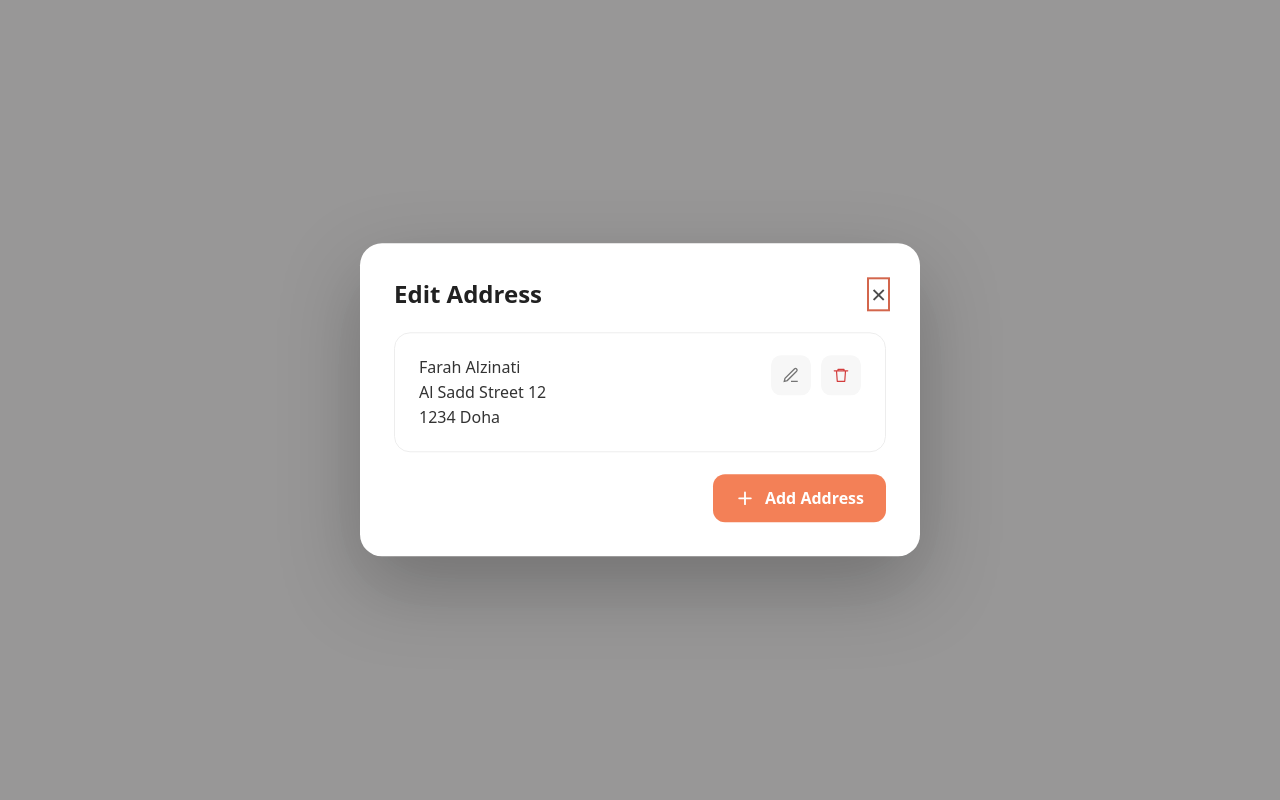
Test: deleting an address › asks first and deletes nothing until confirmed
Step 1. Click the button named "Delete Al Sadd Street 12, Doha" → (841,375), box [821,355,861,395]
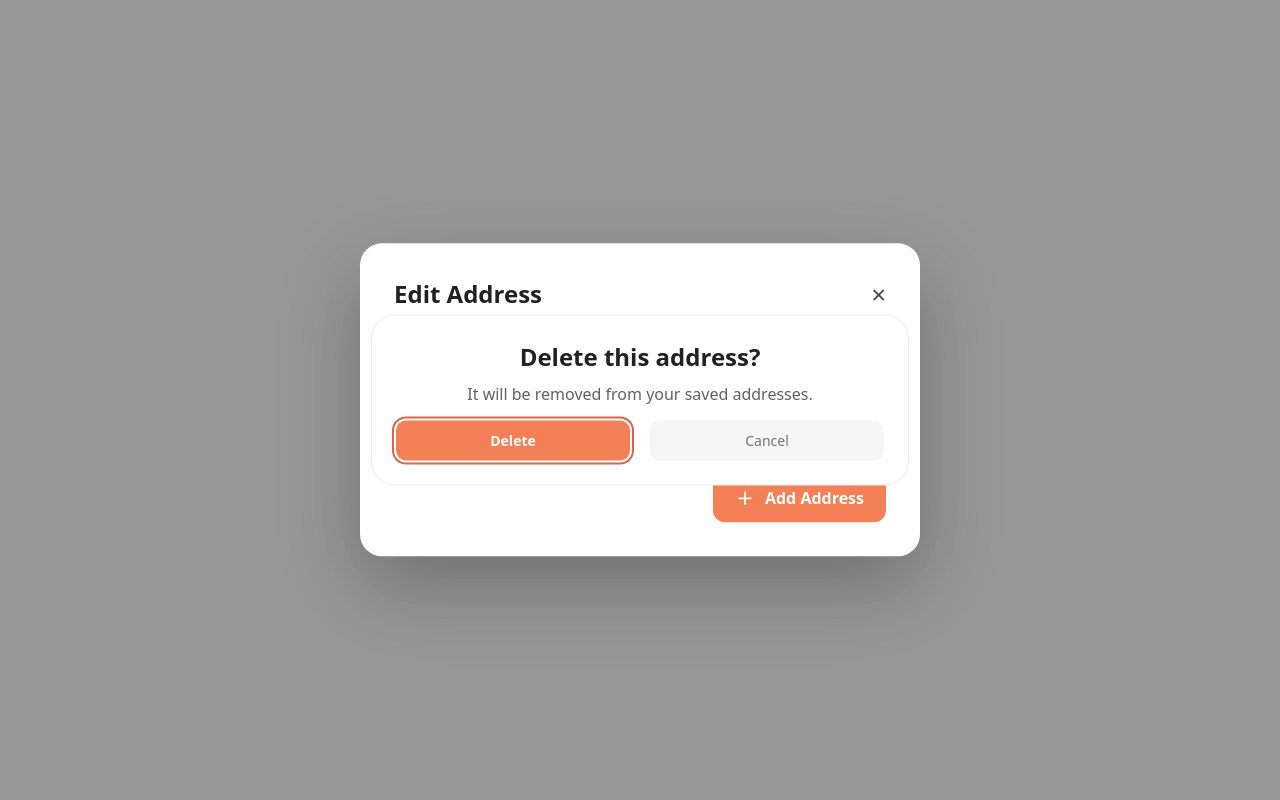
Now the dialog "Delete this address?" is shown, box [371,314,909,486]
